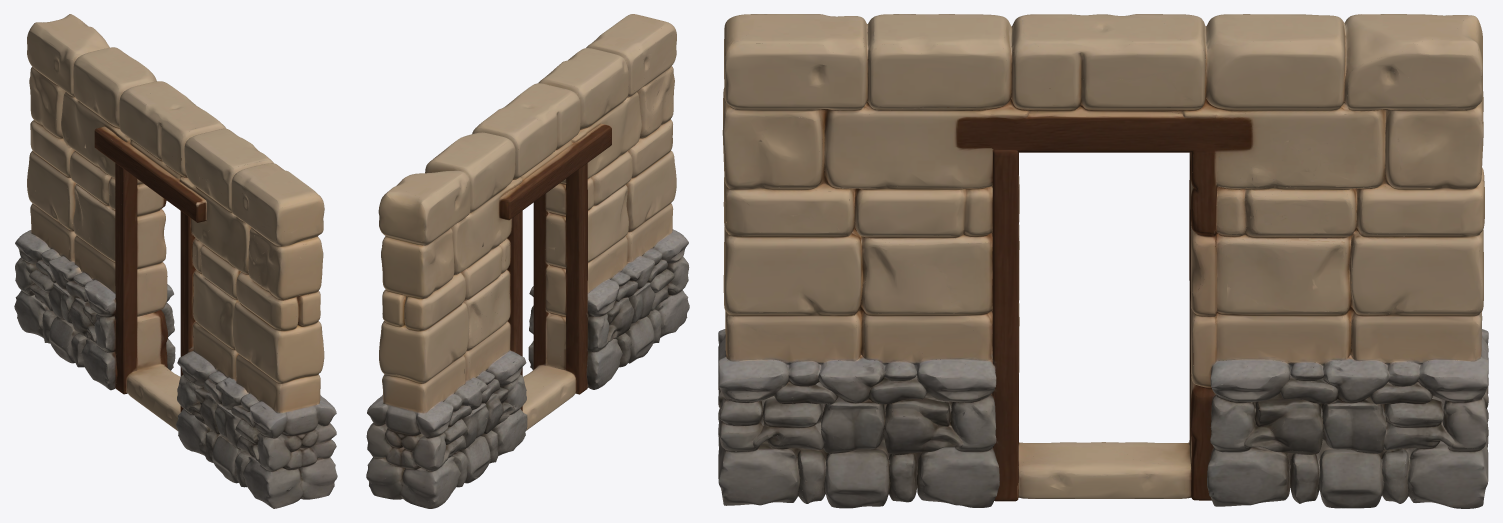
The model's file is Ddway_opt.glb.
3 renders of one model, left to right at view 1: azimuth 30°, elevation 25°; view 2: azimuth 150°, elevation 25°; view 3: azimuth 270°, elevation 25°, orthographic. The views are drawn at different scales.
Parts seen in each view (by area): view 1: material; view 2: material; view 3: material.
Part boxes in pixels (x1,y1,x2,y2): material: [14, 14, 337, 508]; material: [366, 14, 689, 508]; material: [718, 14, 1488, 508].
Size of the model in its own units: 0.1717 by 0.6624 by 1.01.
1 material, 1 textured.
